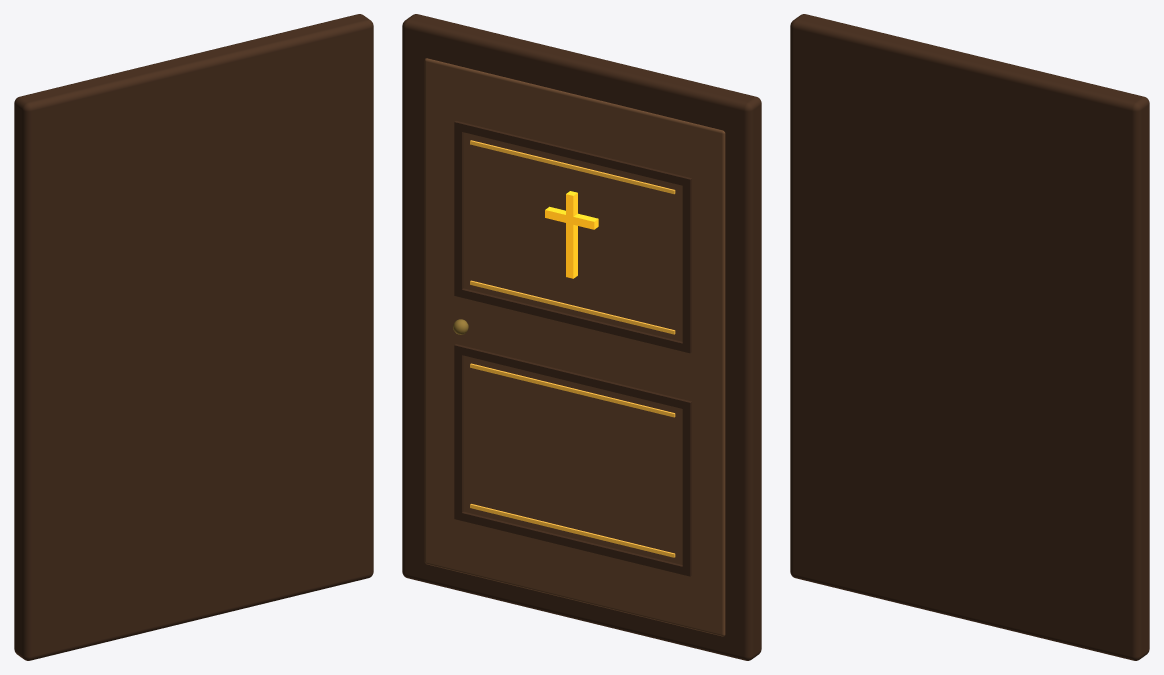
Rendered from crypt-door.glb.
The picture shows the model from 3 angles, left to right: view 1: azimuth 30°, elevation 25°; view 2: azimuth 150°, elevation 25°; view 3: azimuth 330°, elevation 25°; orthographic projection.
Parts seen in each view (by area): view 1: Frame; view 2: Panel, Frame, object 3, object 10, object 4, object 9, object 5, object 11, object 12, object 6, Cross, object 13 (+3 smaller); view 3: Frame.
Boxes of the visible parts, <box> form: Frame: <box>14,14,373,660</box>; Panel: <box>424,58,725,636</box>; Frame: <box>402,14,761,660</box>; object 3: <box>458,122,687,186</box>; object 10: <box>458,511,686,574</box>; object 4: <box>458,288,686,351</box>; object 9: <box>458,346,687,408</box>; object 5: <box>682,176,691,353</box>; object 11: <box>682,400,691,576</box>; object 12: <box>454,344,463,520</box>; object 6: <box>454,121,463,296</box>; Cross: <box>545,191,598,278</box>; object 13: <box>470,363,675,417</box>; Frame: <box>790,14,1149,660</box>.
Size of the model in its own units: 2.3 by 3.5 by 0.255.
